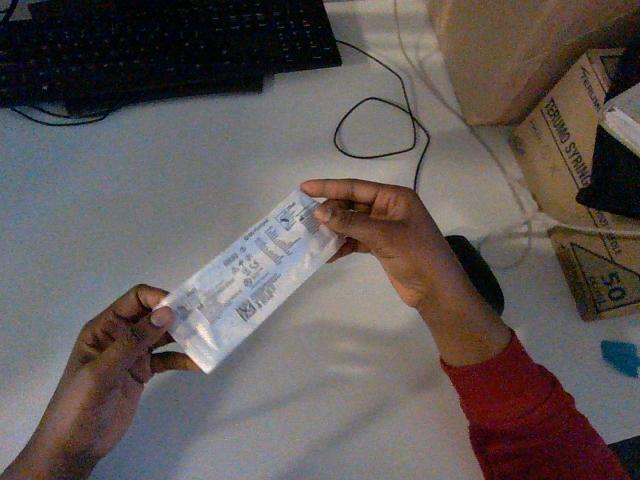syringe: (156, 190, 343, 372)
